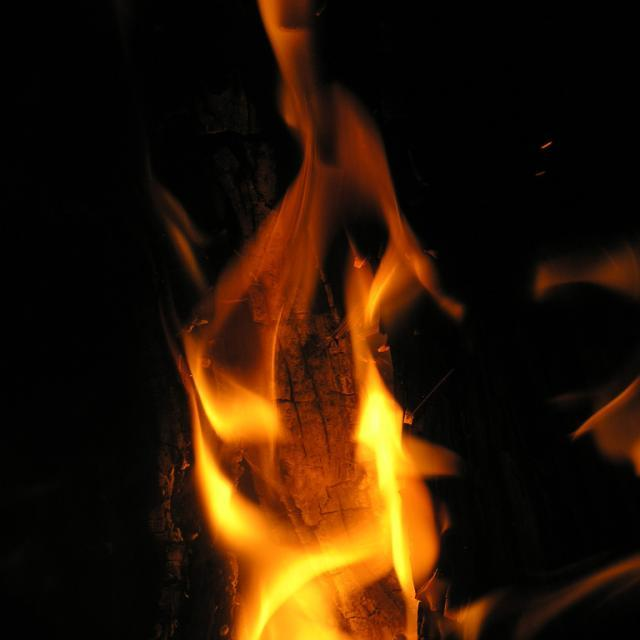Fire: (171, 366, 423, 632)
